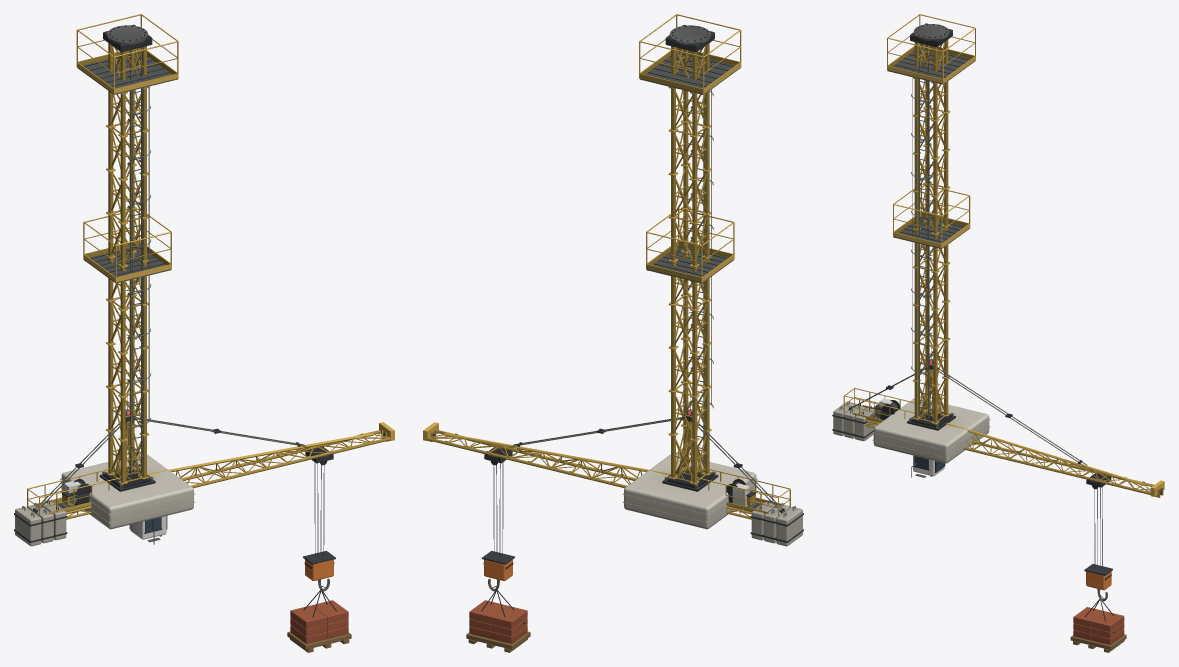
File: crane-near.glb
The picture shows the model from 3 angles, left to right: view 1: azimuth 30°, elevation 25°; view 2: azimuth 150°, elevation 25°; view 3: azimuth 330°, elevation 25°; orthographic projection. The views are drawn at different scales.
Visible parts, largest first — view 1: CraneMast, CraneJib, CraneLoad, CraneHook; view 2: CraneMast, CraneJib, CraneLoad, CraneHook; view 3: CraneMast, CraneJib, CraneLoad, CraneHook.
Part boxes in pixels (left/top/right/bottom): CraneMast: left=60, top=14, right=195, bottom=529; CraneJib: left=14, top=397, right=394, bottom=546; CraneLoad: left=287, top=590, right=351, bottom=652; CraneHook: left=303, top=462, right=335, bottom=591; CraneMast: left=622, top=14, right=757, bottom=529; CraneJib: left=423, top=398, right=803, bottom=546; CraneLoad: left=466, top=590, right=530, bottom=652; CraneHook: left=482, top=462, right=514, bottom=591; CraneMast: left=872, top=14, right=990, bottom=463; CraneJib: left=832, top=348, right=1164, bottom=497; CraneLoad: left=1070, top=599, right=1126, bottom=652; CraneHook: left=1084, top=487, right=1112, bottom=601.
Size of the model in its own units: 10.4 by 17.62 by 2.42.
